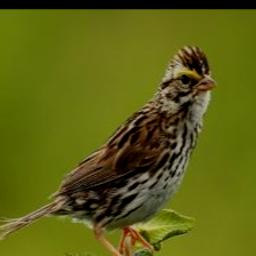Sparrow: (0, 38, 217, 256)
